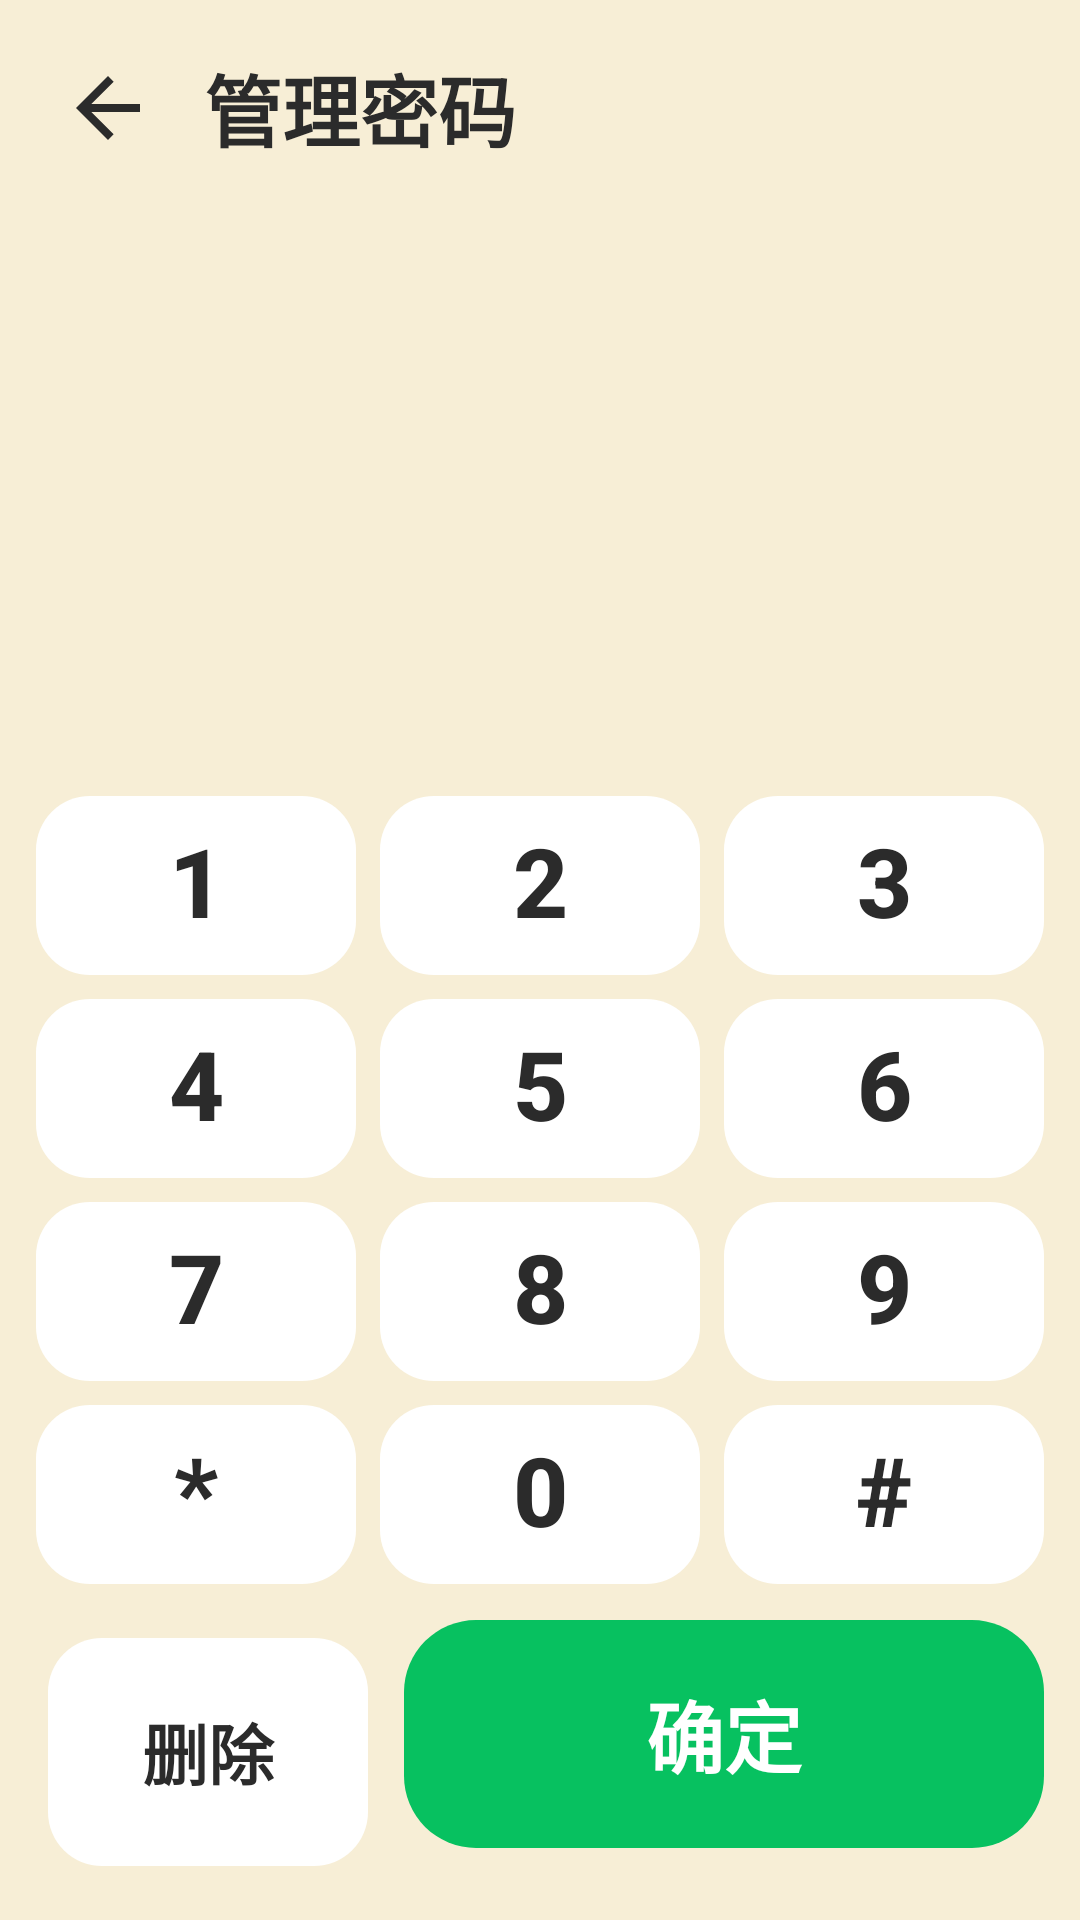

Icons on this 1080*1920 Android screen, each with the point to tap as (x=x, y=y):
取消: (x=108, y=108)
